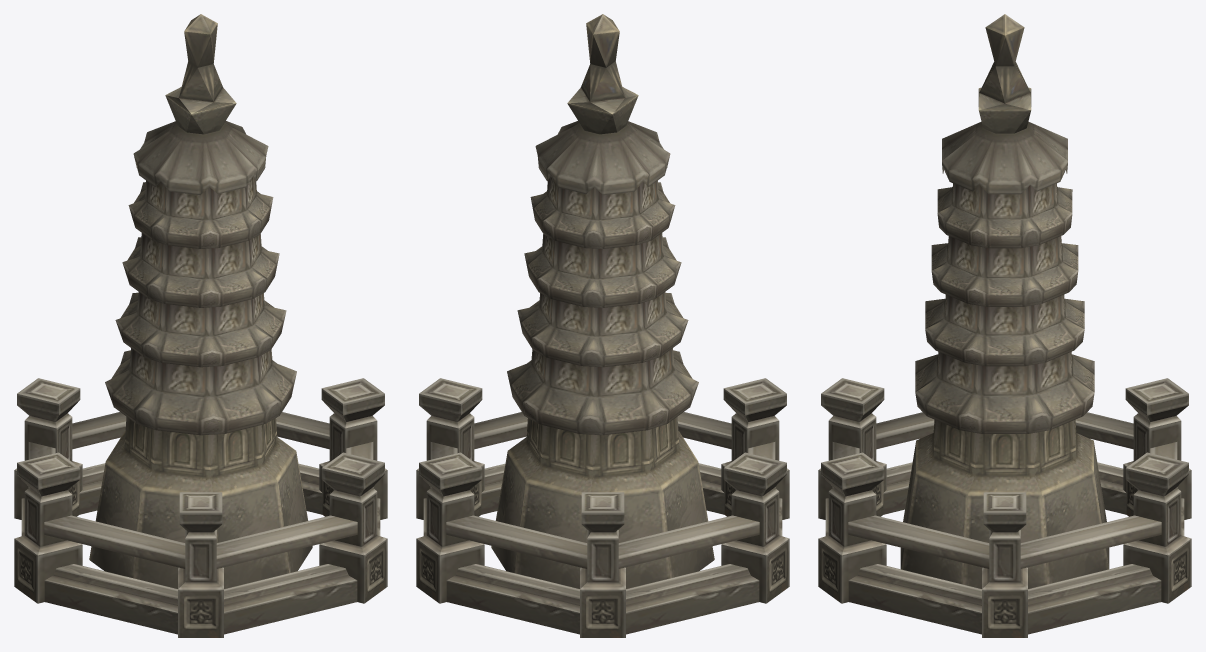
File: Obj_WanAnTa.FBX
3 views of the same model, side by side, from view 1: azimuth 30°, elevation 25°; view 2: azimuth 150°, elevation 25°; view 3: azimuth 270°, elevation 25° (orthographic).
Parts seen in each view (by area): view 1: Obj_WanAnTa; view 2: Obj_WanAnTa; view 3: Obj_WanAnTa.
Part boxes in pixels (<box>): Obj_WanAnTa: <box>14,14,387,637</box>; Obj_WanAnTa: <box>416,14,789,637</box>; Obj_WanAnTa: <box>818,14,1191,637</box>.
Size of the model in its own units: 7.1 by 10.47 by 6.56.
